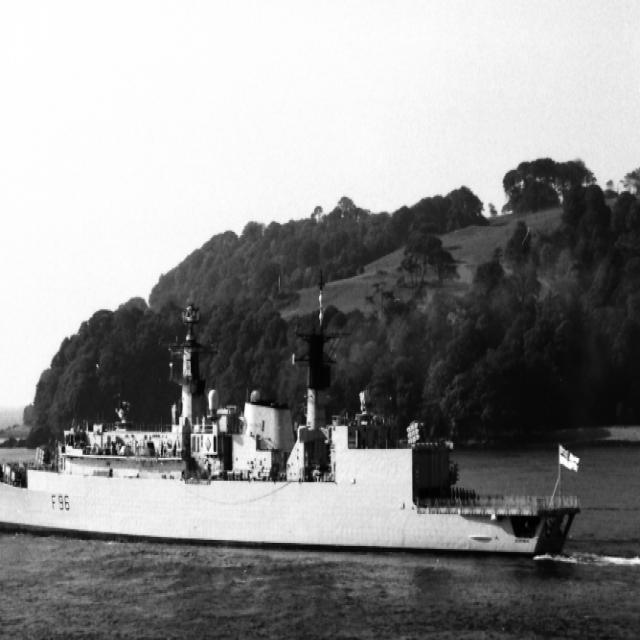Fragata: (1, 282, 590, 574)
